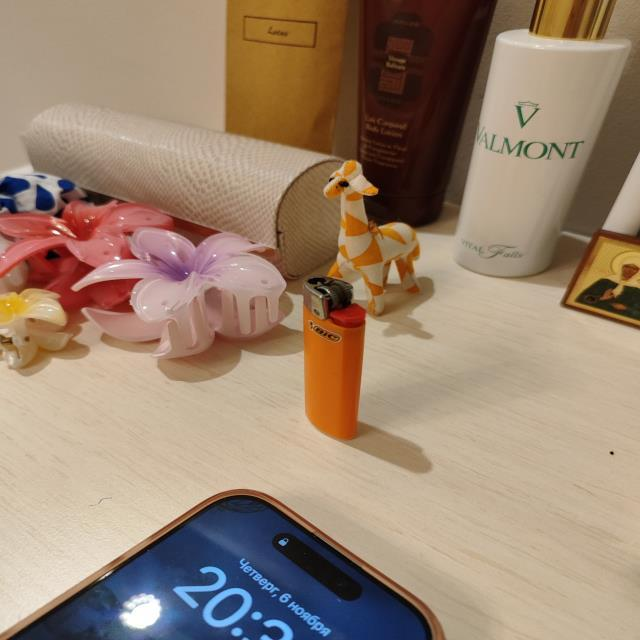lighter: (303, 274, 365, 439)
